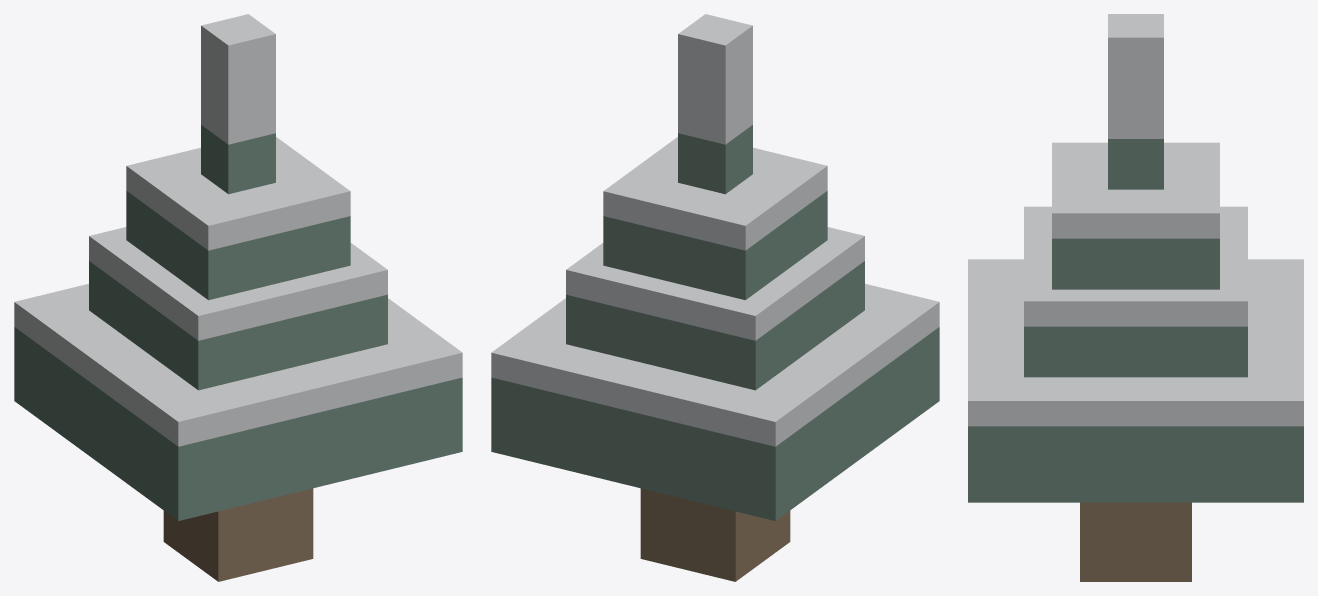
The model's file is pino_nevado_03.glb.
3 renders of one model, left to right at view 1: azimuth 30°, elevation 25°; view 2: azimuth 150°, elevation 25°; view 3: azimuth 270°, elevation 25°, orthographic. The views are drawn at different scales.
Parts seen in each view (by area): view 1: pino_nevado_03; view 2: pino_nevado_03; view 3: pino_nevado_03.
Part boxes in pixels (bbox=[...]): pino_nevado_03: bbox=[14, 14, 462, 581]; pino_nevado_03: bbox=[491, 14, 939, 581]; pino_nevado_03: bbox=[968, 14, 1303, 581].
Size of the model in its own units: 1.2 by 2.1 by 1.2.
